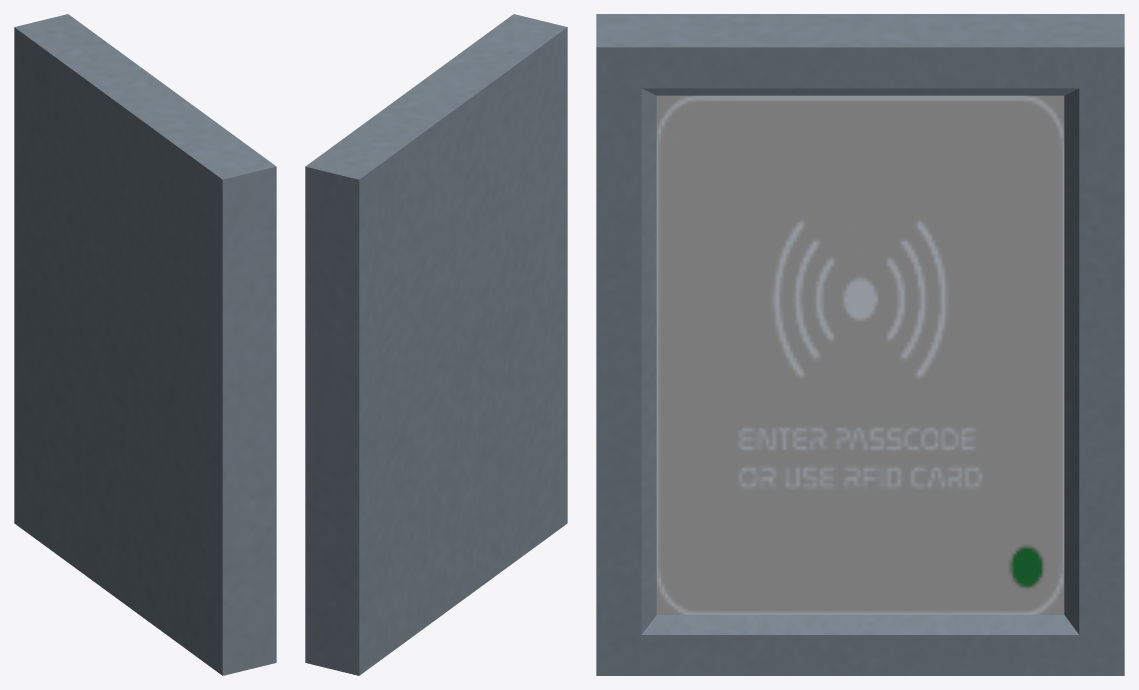
Rendered from device2.fbx.
3 views of the same model, side by side, from view 1: azimuth 30°, elevation 25°; view 2: azimuth 150°, elevation 25°; view 3: azimuth 270°, elevation 25° (orthographic). The views are drawn at different scales.
Visible parts, largest first — view 1: device2; view 2: device2; view 3: device2.
Boxes of the visible parts, x1,y1,x2,y2 form: device2: (14, 14, 276, 675); device2: (305, 14, 567, 675); device2: (596, 14, 1124, 675).
Size of the model in its own units: 5.22 by 45.91 by 34.98.
1 material, 1 textured.
